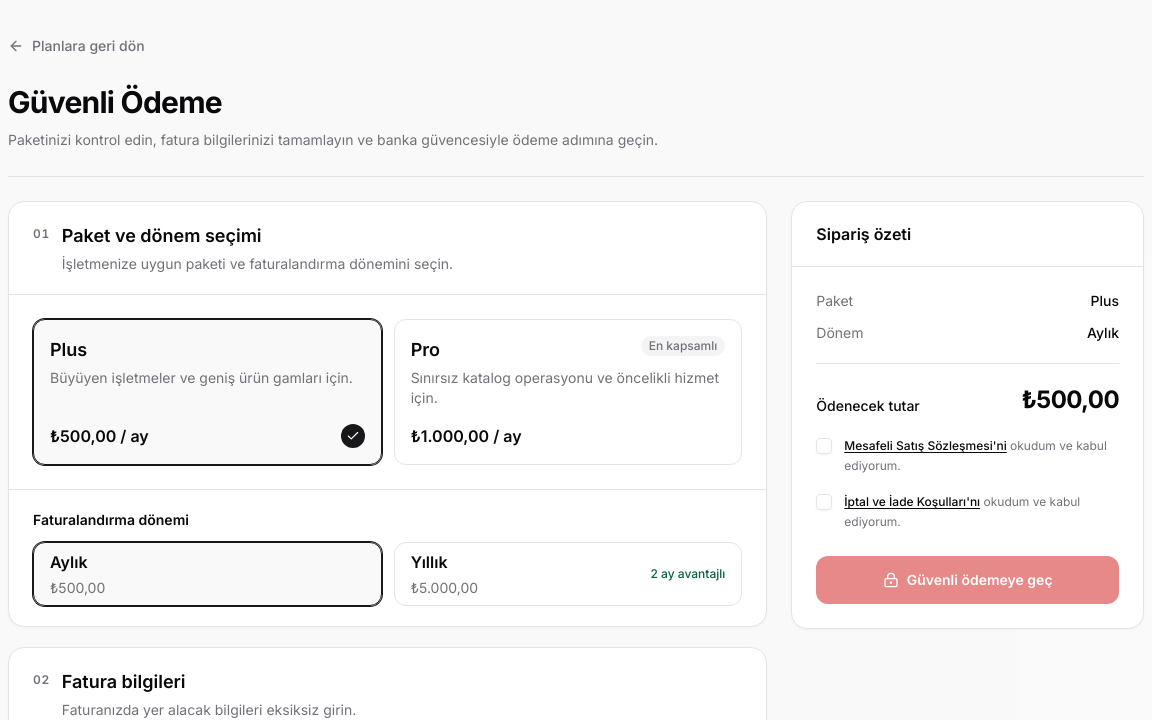
checkout flow › blocks an invalid payment attempt with inline errors and focuses the first field
The image size is (1152, 720).
Click the checkbox named "Mesafeli Satış Sözleşmesi" next to "Mesafeli Satış Sözleşmesi'ni" at (824, 446), box [816,438,832,454]
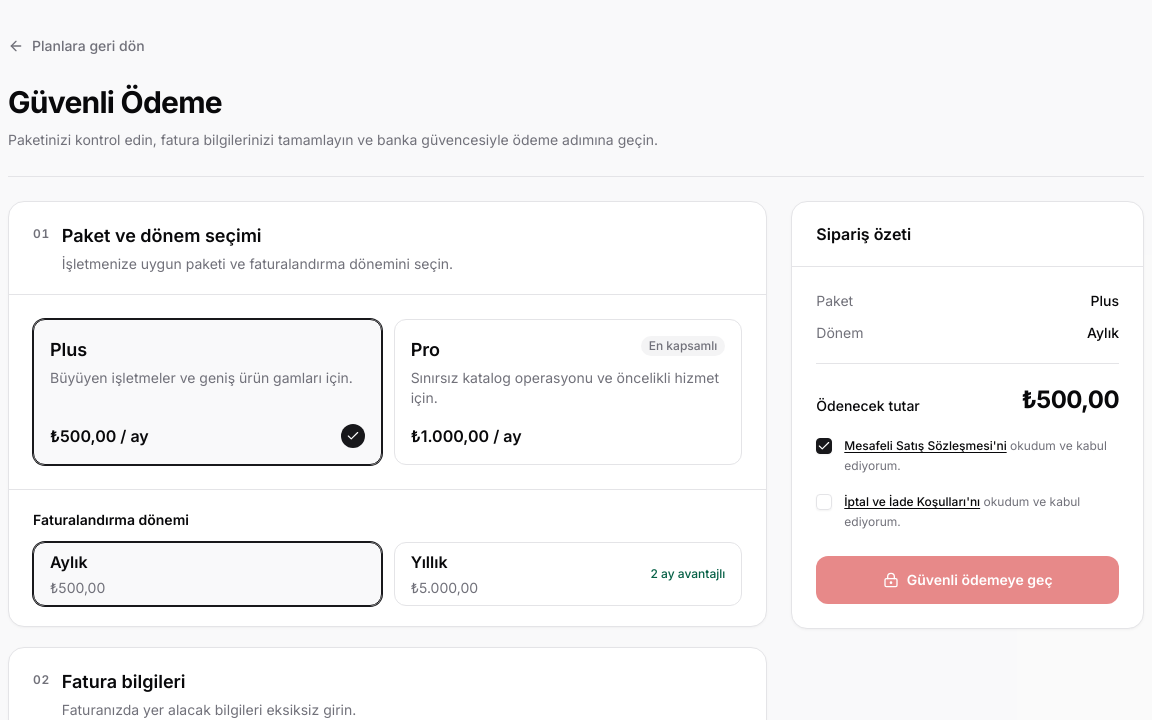
Click the checkbox named "İptal ve İade Koşulları" next to "İptal ve İade Koşulları'nı" at (824, 502), box [816,494,832,510]
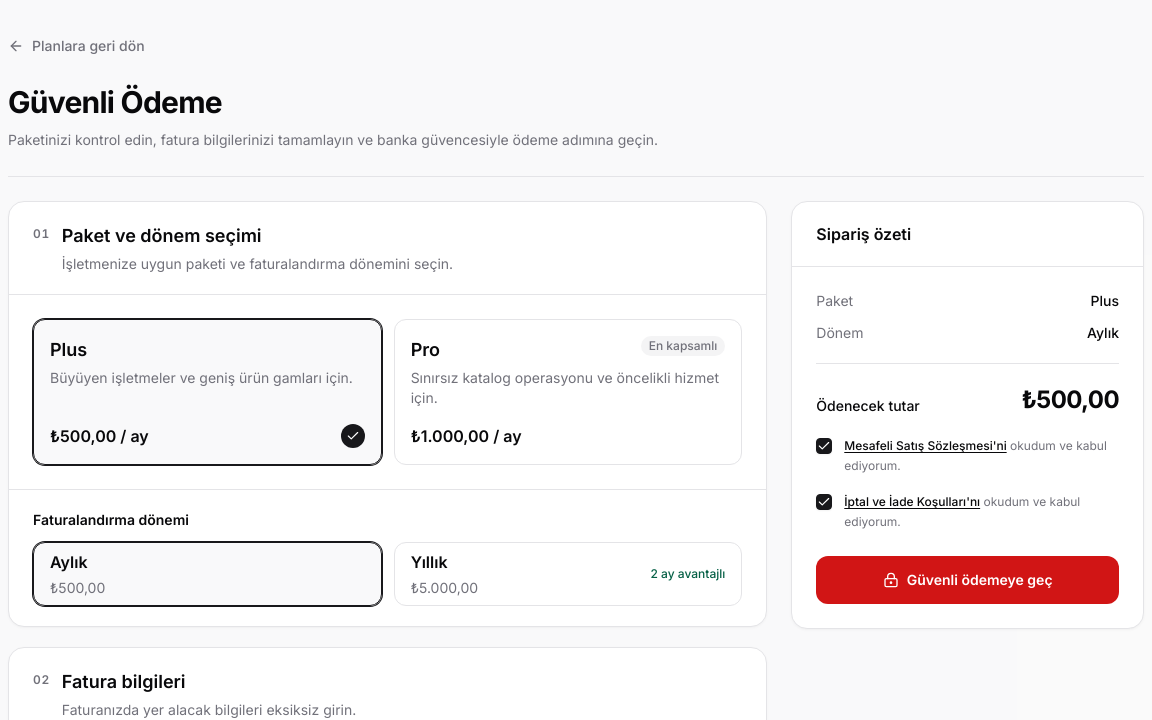
Click the button "Güvenli ödemeye geç" at (968, 580), box [816,556,1119,604]
(page scrolled)
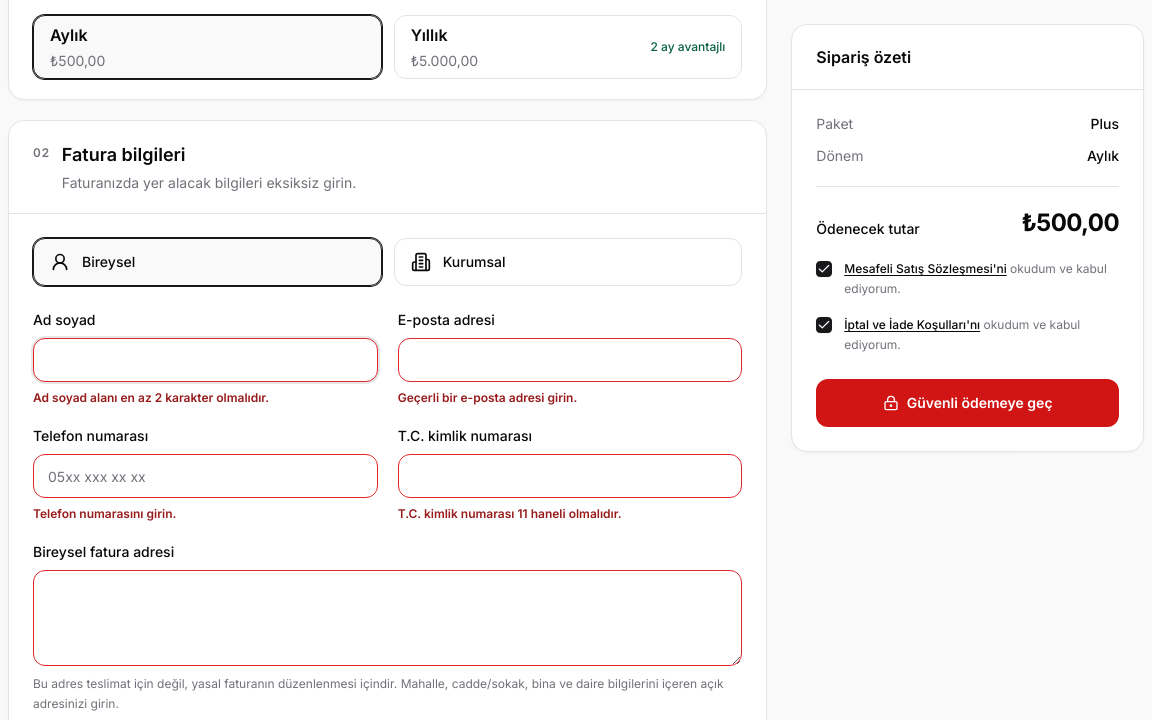
Result: the text "Ad soyad alanı en az 2 karakter olmalıdır." is shown at [33,390,269,405]
